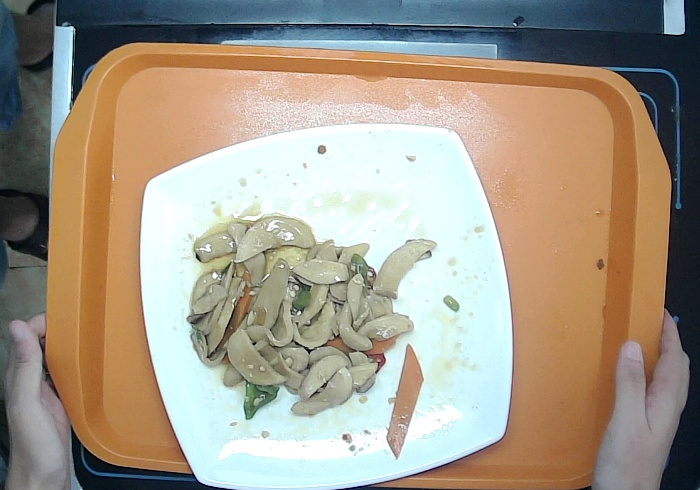ZNLD-Bai_Fang_Pan: (137, 121, 517, 490)
